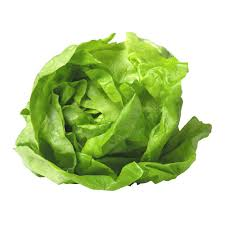lettuce: (24, 33, 195, 174)
